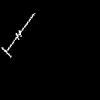treble_crochet: (2, 14, 33, 56)
